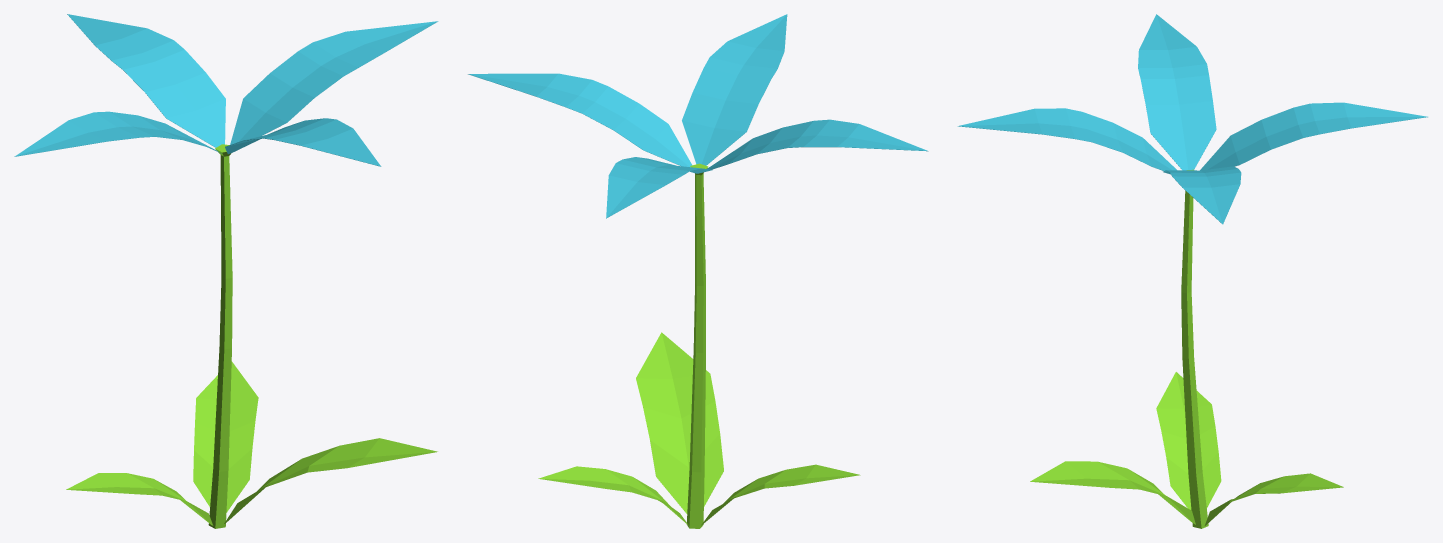
The model's file is flower_animation.fbx.
3 renders of one model, left to right at view 1: azimuth 30°, elevation 25°; view 2: azimuth 150°, elevation 25°; view 3: azimuth 270°, elevation 25°, orthographic. The views are drawn at different scales.
Visible parts, largest first — view 1: Blue_Flower_2; view 2: Blue_Flower_2; view 3: Blue_Flower_2.
Boxes of the visible parts, x1,y1,x2,y2 form: Blue_Flower_2: [14, 14, 438, 528]; Blue_Flower_2: [468, 14, 928, 528]; Blue_Flower_2: [957, 14, 1427, 528].
Bounding box in the file's own units: 355 × 330 × 340.
